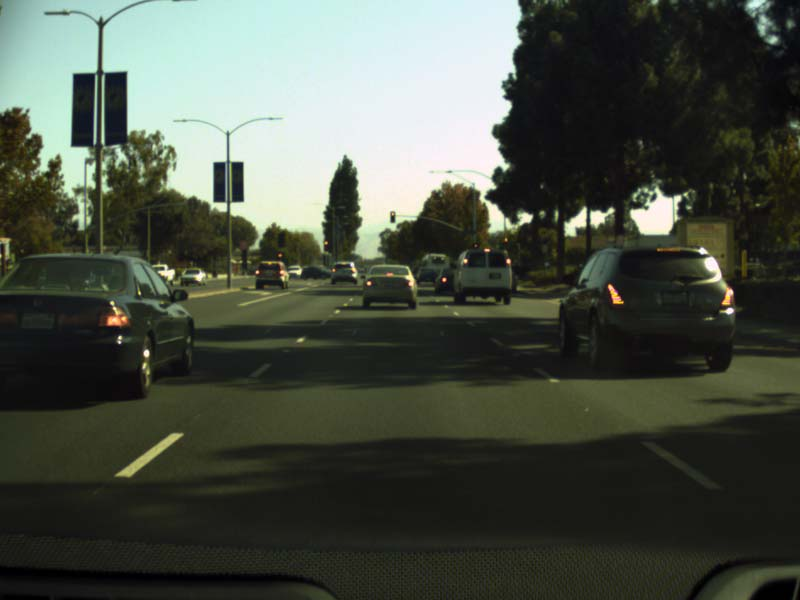Red: (278, 252, 282, 263), (390, 212, 394, 221), (324, 241, 328, 250), (473, 243, 477, 252)
Yellow: (504, 238, 506, 244)
